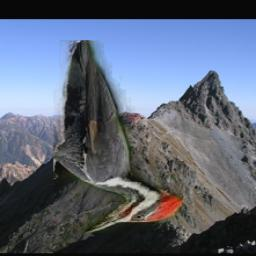Woodpecker: (53, 41, 183, 234)
